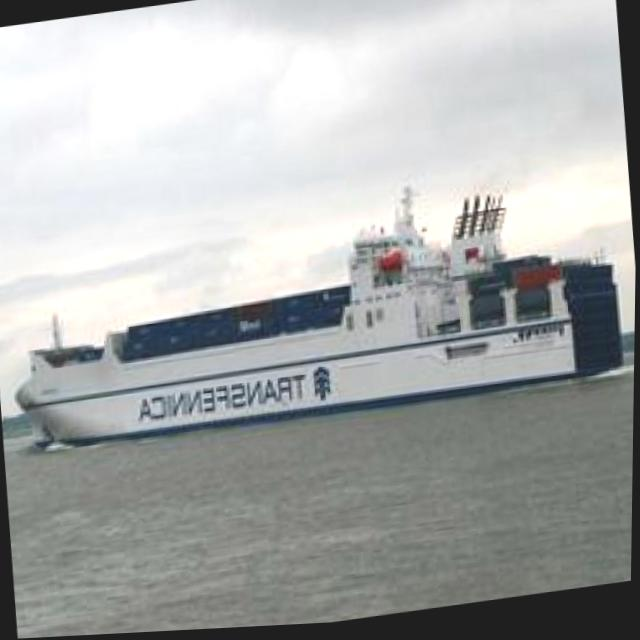ship2: (16, 189, 626, 455)
